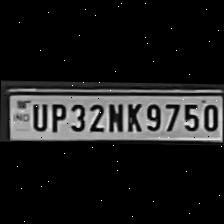0: (200, 100, 218, 130)
2: (85, 99, 105, 130)
3: (66, 99, 86, 130)
5: (178, 99, 200, 130)
7: (161, 99, 179, 130)
9: (141, 99, 163, 130)
K: (122, 99, 142, 130)
N: (105, 98, 124, 130)
P: (46, 99, 66, 131)
U: (28, 99, 48, 130)
